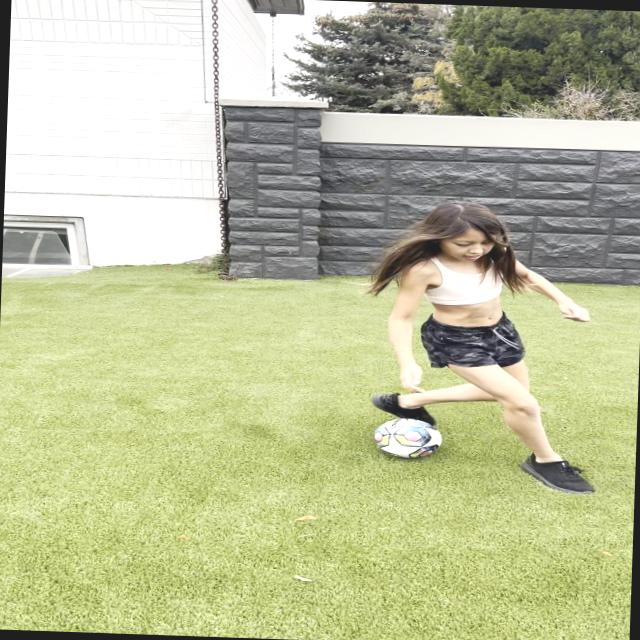Soccer Ball: (372, 416, 442, 459)
